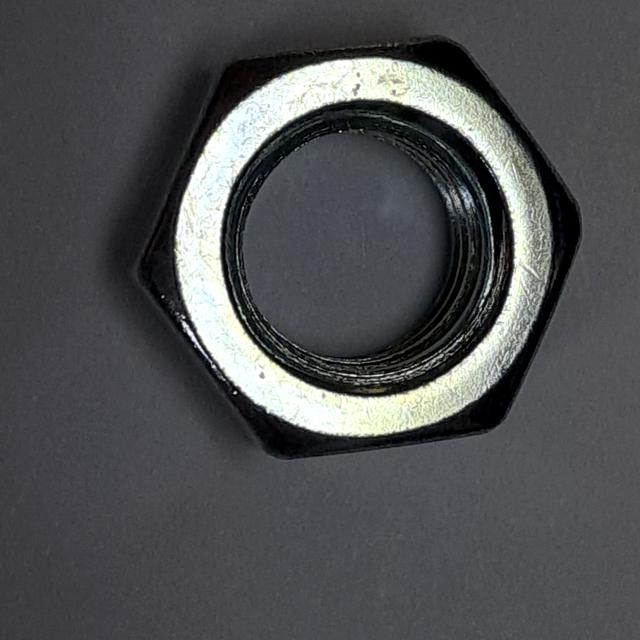Excellent: (117, 17, 594, 474)
